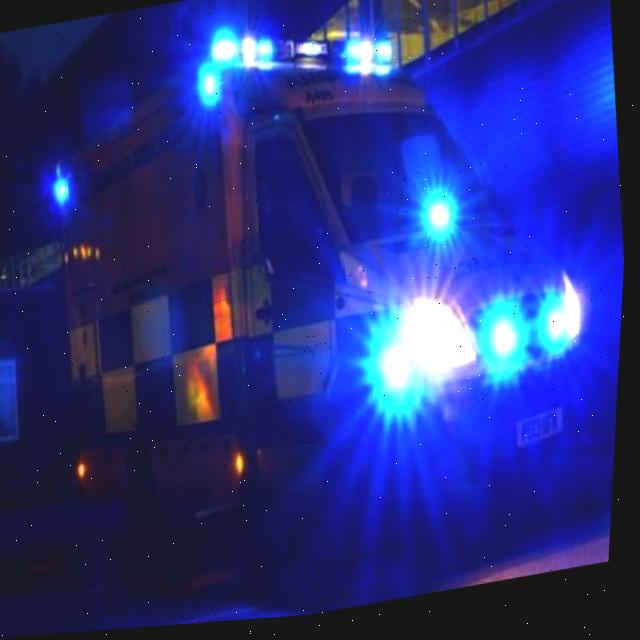emergency: (0, 0, 624, 571)
